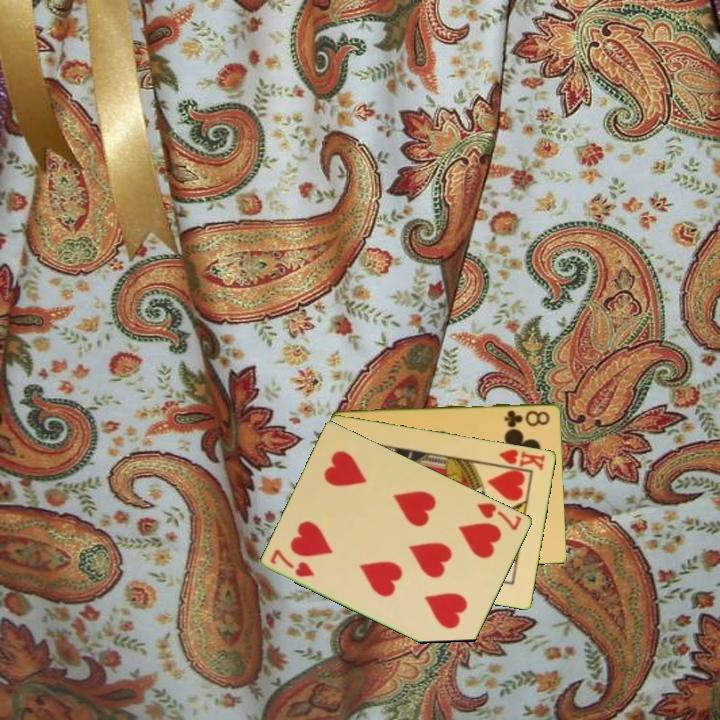7h: (473, 499, 525, 534), (267, 545, 318, 580)
8c: (501, 406, 553, 429)
Kh: (491, 445, 548, 473)
